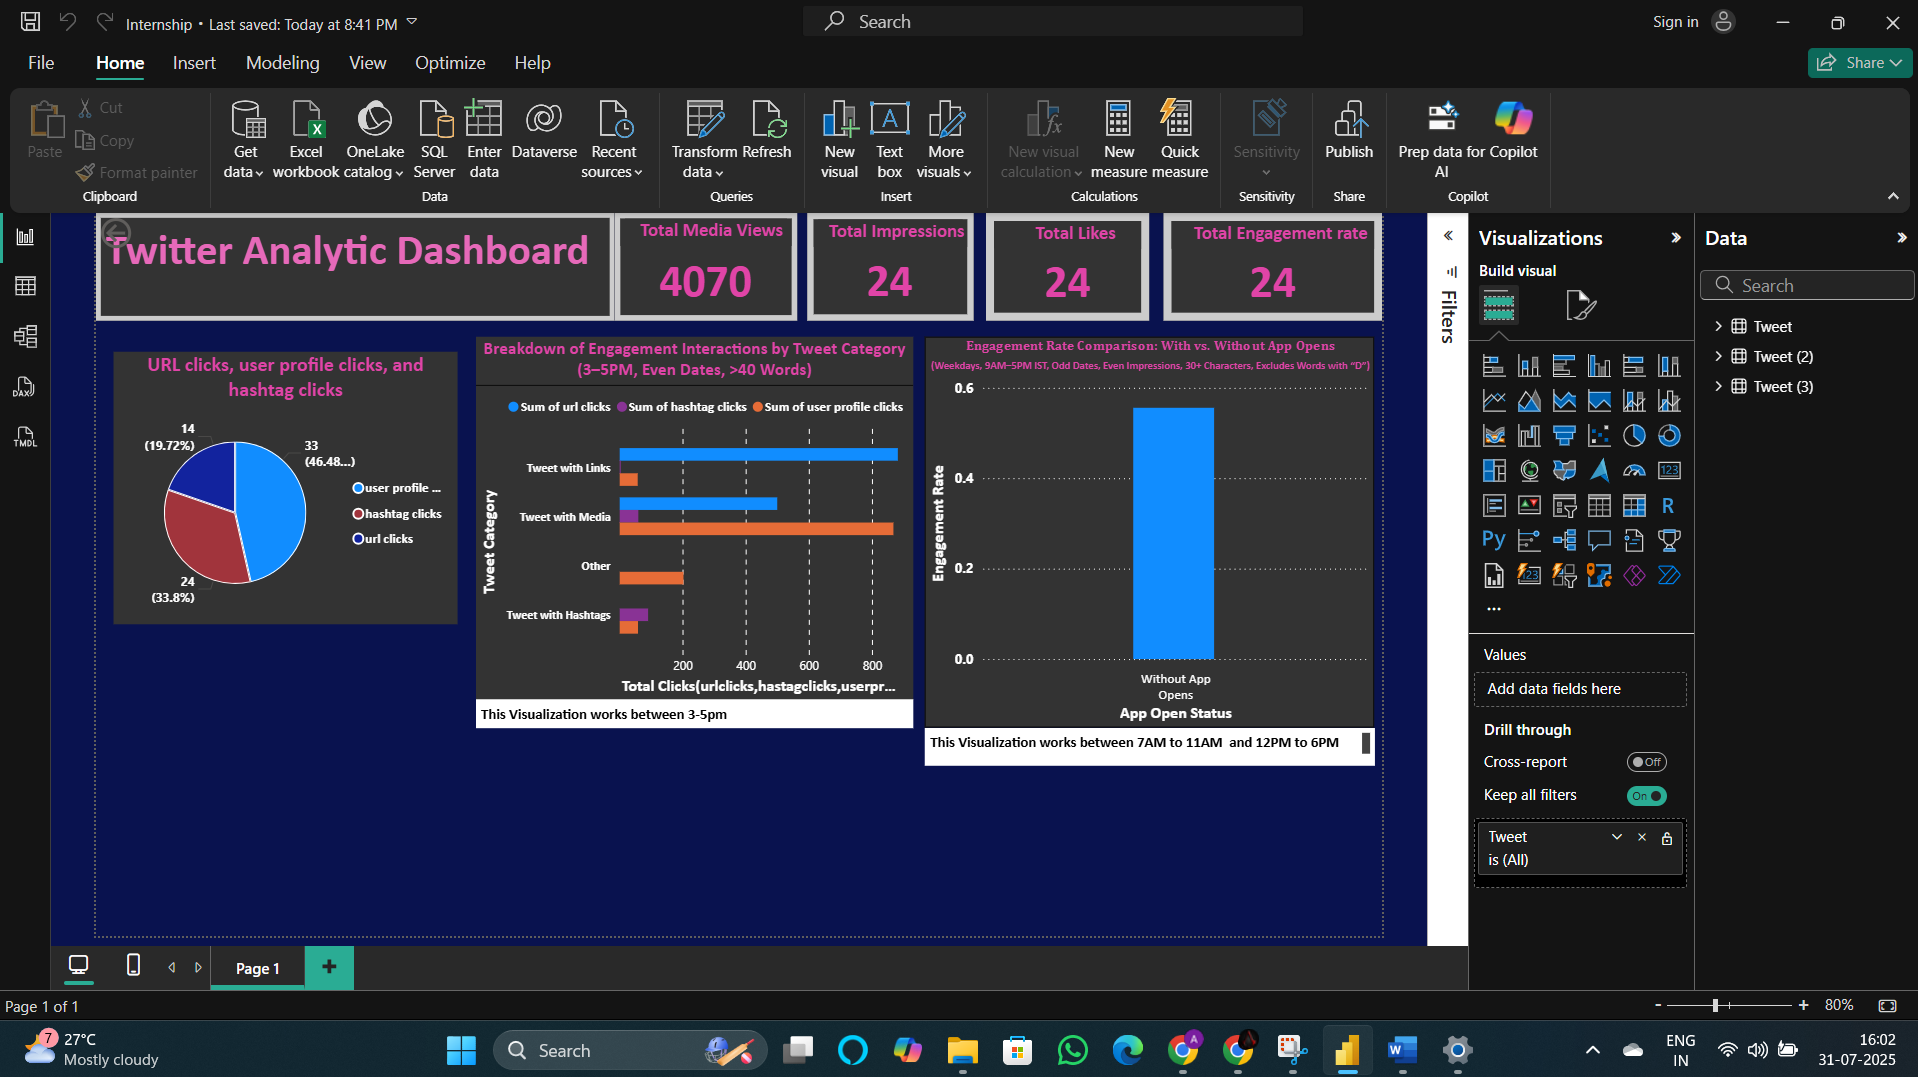

The page's visual inventory and layout, read from the dashboard file:
{"tool":"powerbi","page":{"name":"Page 1","canvas":[1280,720],"ordinal":0},"visuals":[{"type":"textbox","box":[0,0,516.2,107],"z":0},{"type":"card","title":"Total Media Views","fields":{"Values":["Sum(Tweet.media views)"]},"box":[516.2,0,181.6,107],"z":1000},{"type":"card","title":"Total Impressions","fields":{"Values":["CountNonNull(Tweet.impressions)"]},"box":[707.8,0,165.4,107],"z":2000},{"type":"card","title":"Total Likes","fields":{"Values":["CountNonNull(Tweet.likes)"]},"box":[886.2,0,162.5,107.5],"z":3000},{"type":"card","title":"Total Engagement rate","fields":{"Values":["CountNonNull(Tweet.engagement rate)"]},"box":[1062.3,0,217.7,107],"z":4000},{"type":"pieChart","title":"URL clicks, user profile clicks, and hashtag clicks","fields":{"Category":["Tweet.Click Type","Tweet.Tweet"],"Y":["Sum(Tweet.Clicks)"]},"box":[17.5,137.5,342.5,271.2],"z":5000},{"type":"clusteredBarChart","title":"Breakdown of Engagement Interactions by Tweet Category (3–5PM, Even Dates, >40 Words)","fields":{"Category":["Tweet (2).Tweet Category"],"Y":["Sum(Tweet (2).url clicks)","Sum(Tweet (2).hashtag clicks)","Sum(Tweet (2).user profile clicks)"]},"box":[378.8,123.8,435,361.2],"z":6000},{"type":"actionButton","box":[0,0,100,40],"z":7000},{"type":"clusteredColumnChart","title":"Engagement Rate Comparison: With vs. Without App Opens","fields":{"Category":["Tweet (3).AppOpenStatus"],"Y":["Sum(Tweet (3).engagement rate)"]},"box":[825,123.8,447.5,388.8],"z":8000},{"type":"textbox","box":[378.2,483.9,435.4,28.6],"z":8001},{"type":"textbox","box":[824.7,512.5,447.8,37.3],"z":8002}]}

Visuals, with their boxes on the page's 1280x720 design canvas (x1, y1, x2, y2). These are canvas units, not pixel positions in the 1918x1077 screenshot, which may show the page scaled, cropped or inside an application window:
textbox: (0, 0, 516, 107)
"Total Media Views" card: (516, 0, 698, 107)
"Total Impressions" card: (708, 0, 873, 107)
"Total Likes" card: (886, 0, 1049, 108)
"Total Engagement rate" card: (1062, 0, 1280, 107)
"URL clicks, user profile clicks, and hashtag clicks" pieChart: (18, 138, 360, 409)
"Breakdown of Engagement Interactions by Tweet Category (3–5PM, Even Dates, >40 Words)" clusteredBarChart: (379, 124, 814, 485)
actionButton: (0, 0, 100, 40)
"Engagement Rate Comparison: With vs. Without App Opens" clusteredColumnChart: (825, 124, 1272, 513)
textbox: (378, 484, 814, 512)
textbox: (825, 512, 1272, 550)
